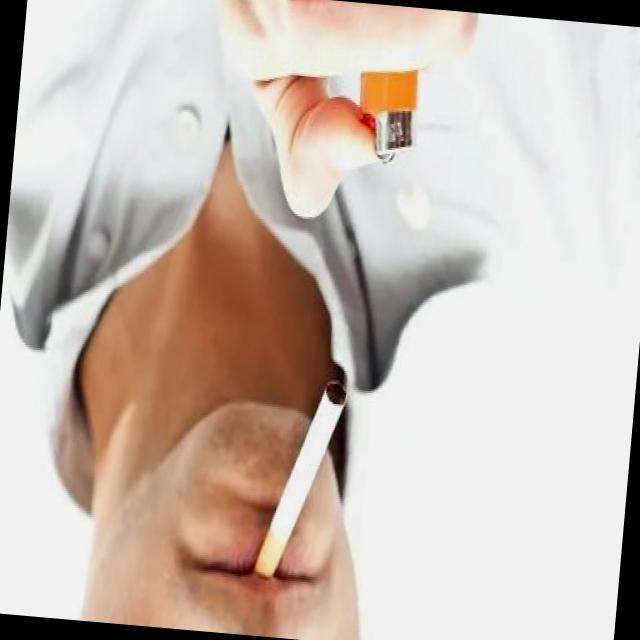cigarette: (250, 376, 354, 586)
